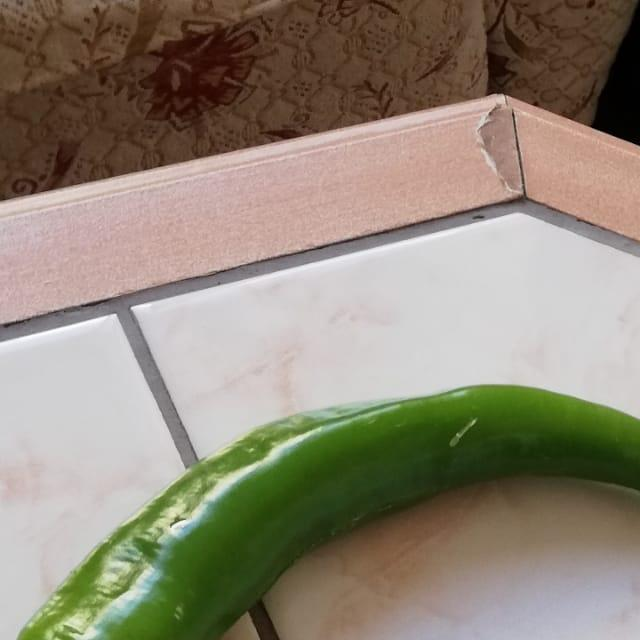chili_pepper: (0, 369, 640, 640)
